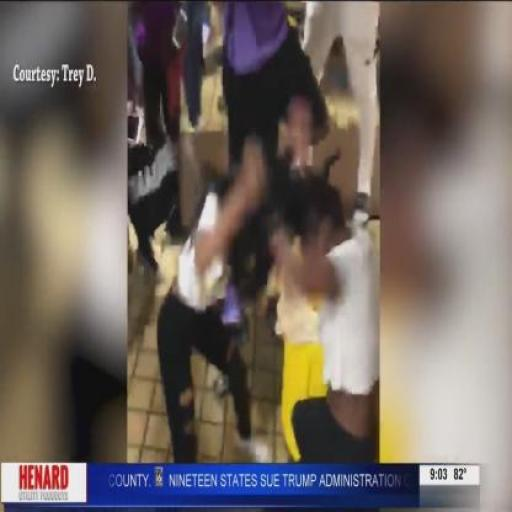Fighting: (162, 87, 377, 467)
